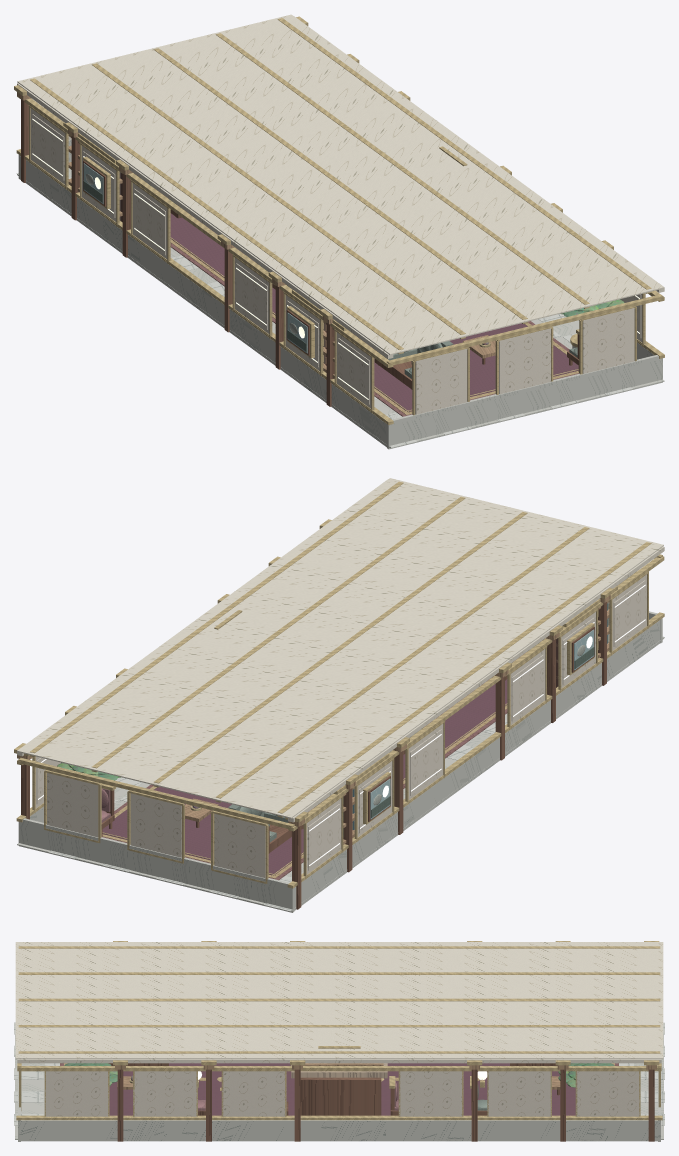
Rendered from reception.gltf.
3 views of the same model, one above another, from view 1: azimuth 30°, elevation 25°; view 2: azimuth 150°, elevation 25°; view 3: azimuth 270°, elevation 25° (orthographic). The views are drawn at different scales.
Visible parts, largest first — view 1: ivory, gold, cream, marble, oakdark, burgundy, tile, oak, rugtrim, sky, rugbase; view 2: ivory, gold, cream, marble, oakdark, burgundy, tile, oak, sky; view 3: ivory, gold, cream, marble, oakdark, burgundy, tile, oak, woodlight, plant.
Part boxes in pixels (x1=…): ivory: x1=17, y1=14, x2=664, y2=358; gold: x1=14, y1=16, x2=664, y2=424; cream: x1=30, y1=108, x2=642, y2=414; marble: x1=17, y1=139, x2=664, y2=449; oakdark: x1=21, y1=99, x2=579, y2=406; burgundy: x1=170, y1=213, x2=578, y2=411; tile: x1=16, y1=173, x2=632, y2=447; oak: x1=17, y1=92, x2=495, y2=378; rugtrim: x1=170, y1=225, x2=578, y2=415; sky: x1=83, y1=163, x2=307, y2=353; rugbase: x1=170, y1=243, x2=579, y2=416; ivory: x1=17, y1=478, x2=664, y2=822; gold: x1=14, y1=481, x2=664, y2=888; cream: x1=35, y1=574, x2=646, y2=877; marble: x1=17, y1=603, x2=664, y2=912; oakdark: x1=21, y1=602, x2=606, y2=909; burgundy: x1=102, y1=679, x2=507, y2=875; tile: x1=48, y1=636, x2=664, y2=911; oak: x1=17, y1=595, x2=610, y2=844; sky: x1=370, y1=629, x2=594, y2=819; ivory: x1=15, y1=942, x2=663, y2=1063; gold: x1=16, y1=941, x2=662, y2=1120; cream: x1=45, y1=1071, x2=640, y2=1116; marble: x1=15, y1=1034, x2=663, y2=1141; oakdark: x1=108, y1=1063, x2=654, y2=1141; burgundy: x1=109, y1=1063, x2=575, y2=1115; tile: x1=14, y1=1022, x2=664, y2=1125; oak: x1=115, y1=1063, x2=656, y2=1089; woodlight: x1=291, y1=1063, x2=387, y2=1078; plant: x1=64, y1=1063, x2=614, y2=1082.
Bounding box in the file's own units: 9.28 × 3.01 × 20.96.
30 materials, 30 textured.
